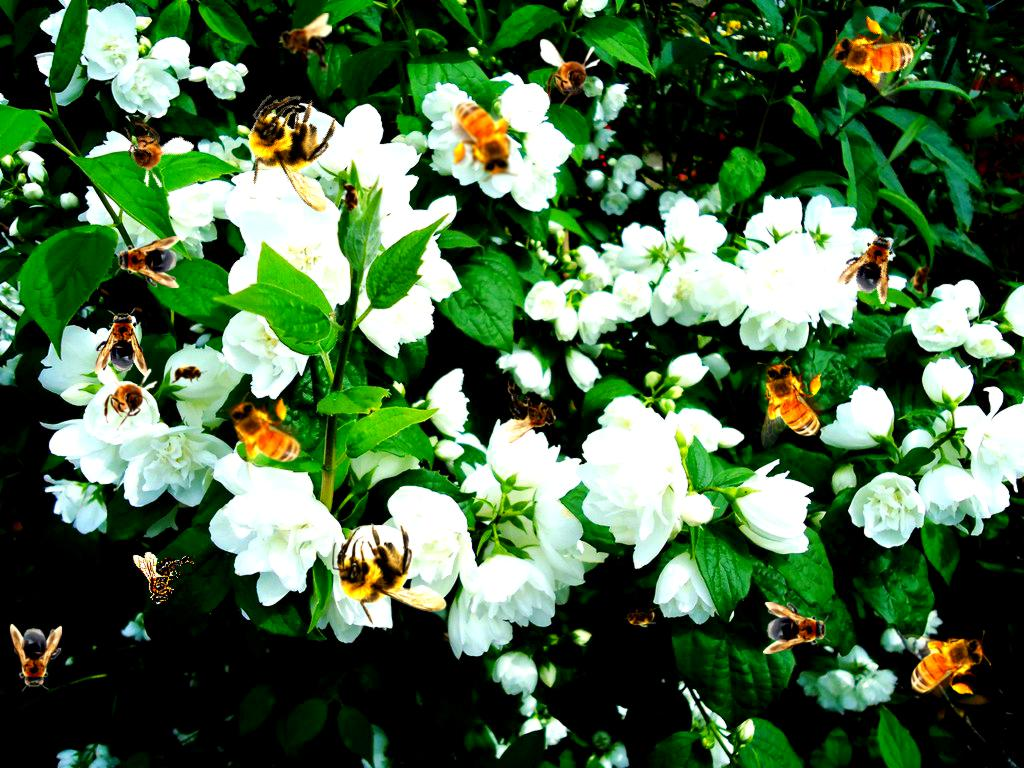Bee: (217, 77, 374, 232), (817, 2, 933, 111), (332, 523, 447, 630), (216, 379, 314, 492), (103, 110, 196, 198), (450, 89, 518, 182), (898, 630, 991, 698), (757, 356, 825, 449), (835, 222, 909, 306), (540, 39, 601, 109), (97, 361, 158, 431), (763, 602, 831, 654), (95, 308, 147, 376), (10, 624, 62, 692), (113, 236, 181, 288), (133, 552, 195, 605), (279, 13, 332, 75), (504, 381, 557, 443), (904, 256, 940, 302), (620, 606, 660, 628), (168, 363, 208, 385), (339, 178, 361, 218)
